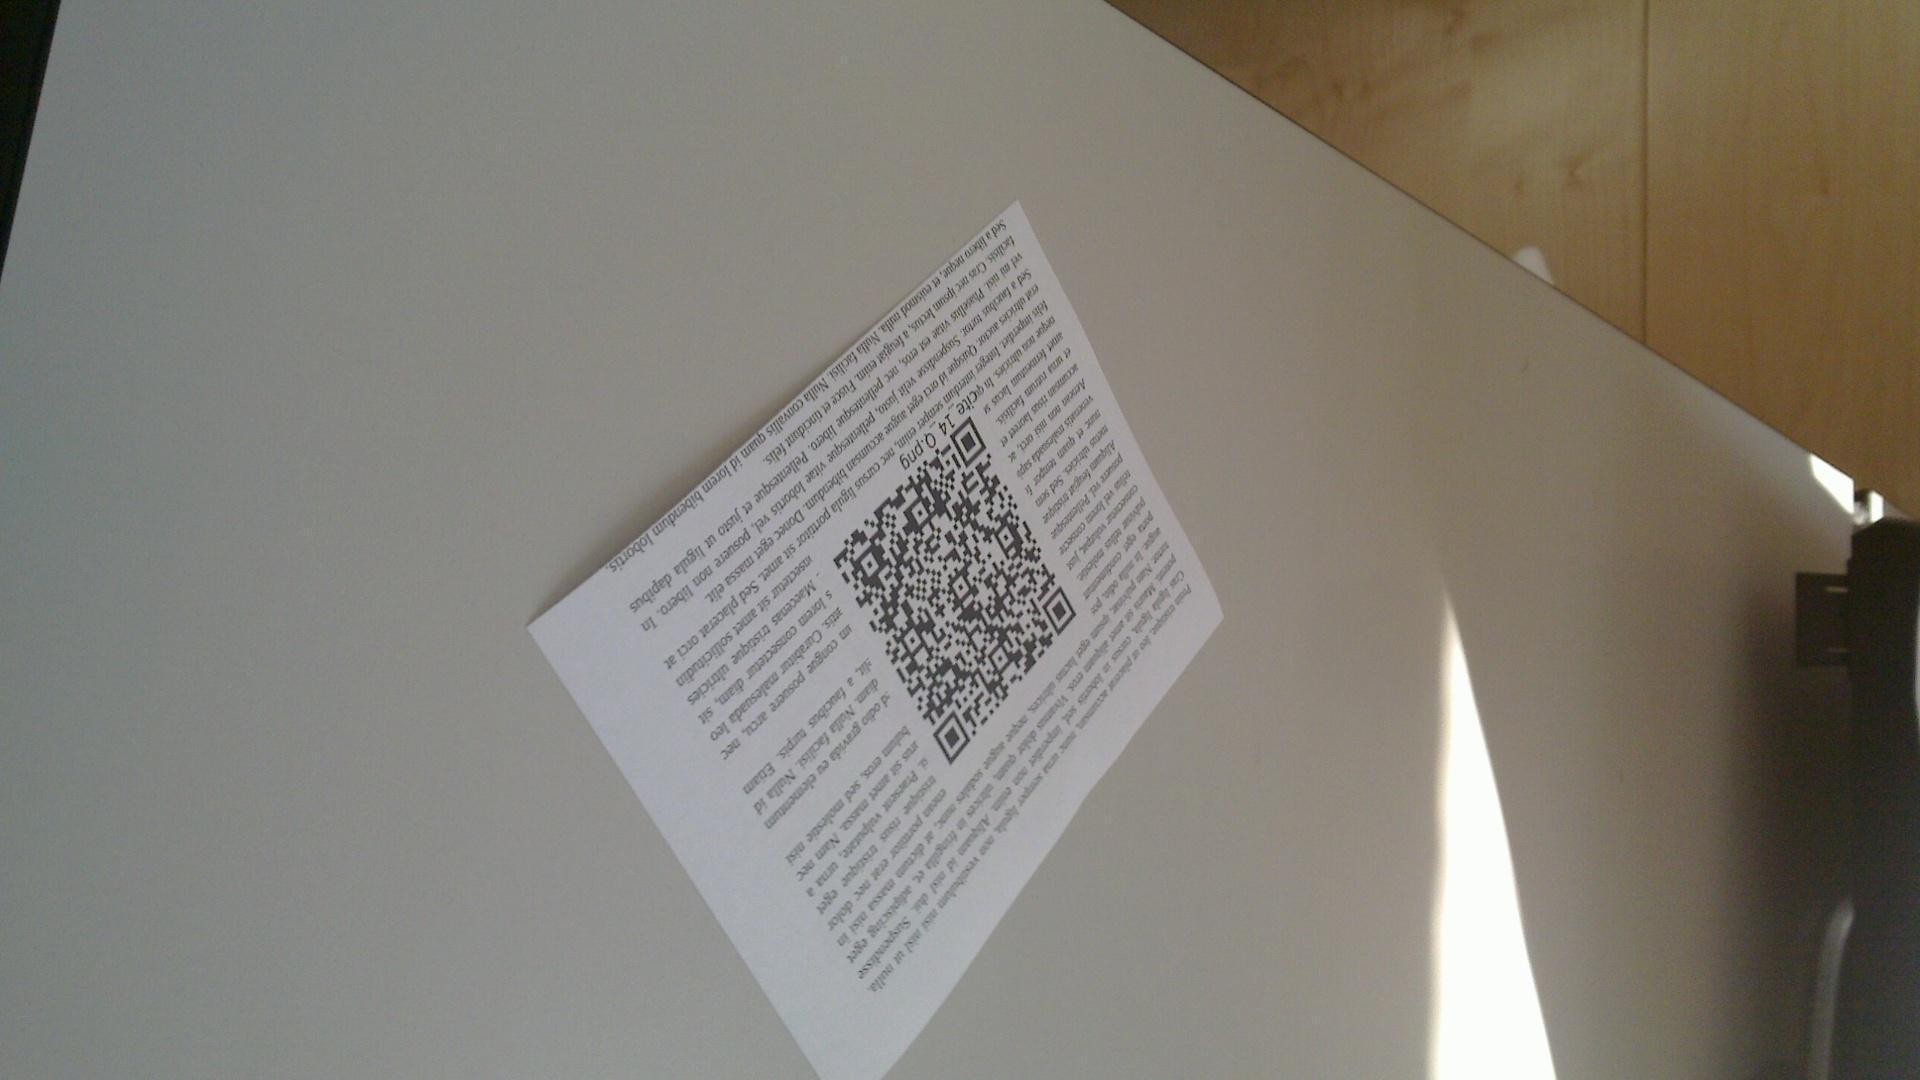qr_code: (832, 415, 1076, 766)
